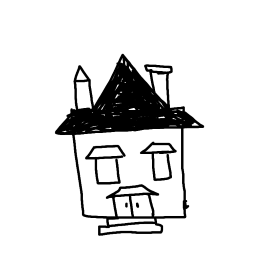chimney: (70, 57, 99, 113), (146, 59, 181, 104)
door: (107, 183, 157, 225)
open_window: (84, 140, 127, 187), (138, 140, 182, 182)
shaded_roof: (53, 52, 204, 139)
wall: (65, 121, 195, 222)
